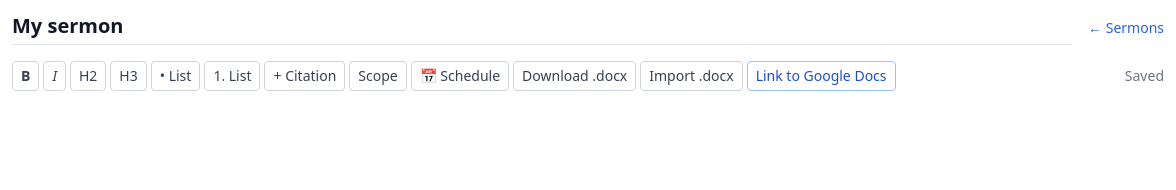
Test: SermonEditor — external-editor link (Phase 45) › Link POST flips the editor into read-only linked mode
Click the button "Link to Google Docs" at (821, 76), box [747,61,896,91]
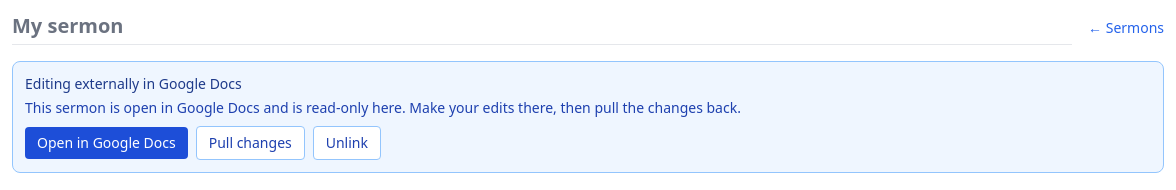
Check: the element with test id "editing-externally-banner" is shown, box [12,61,1164,173]
